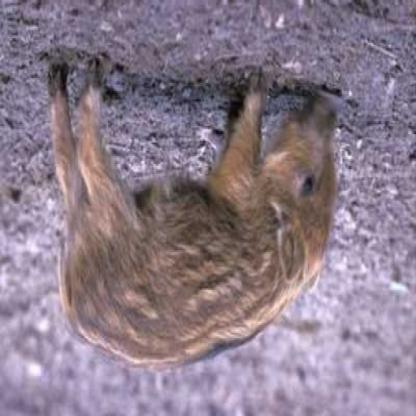boar: (43, 95, 388, 391)
